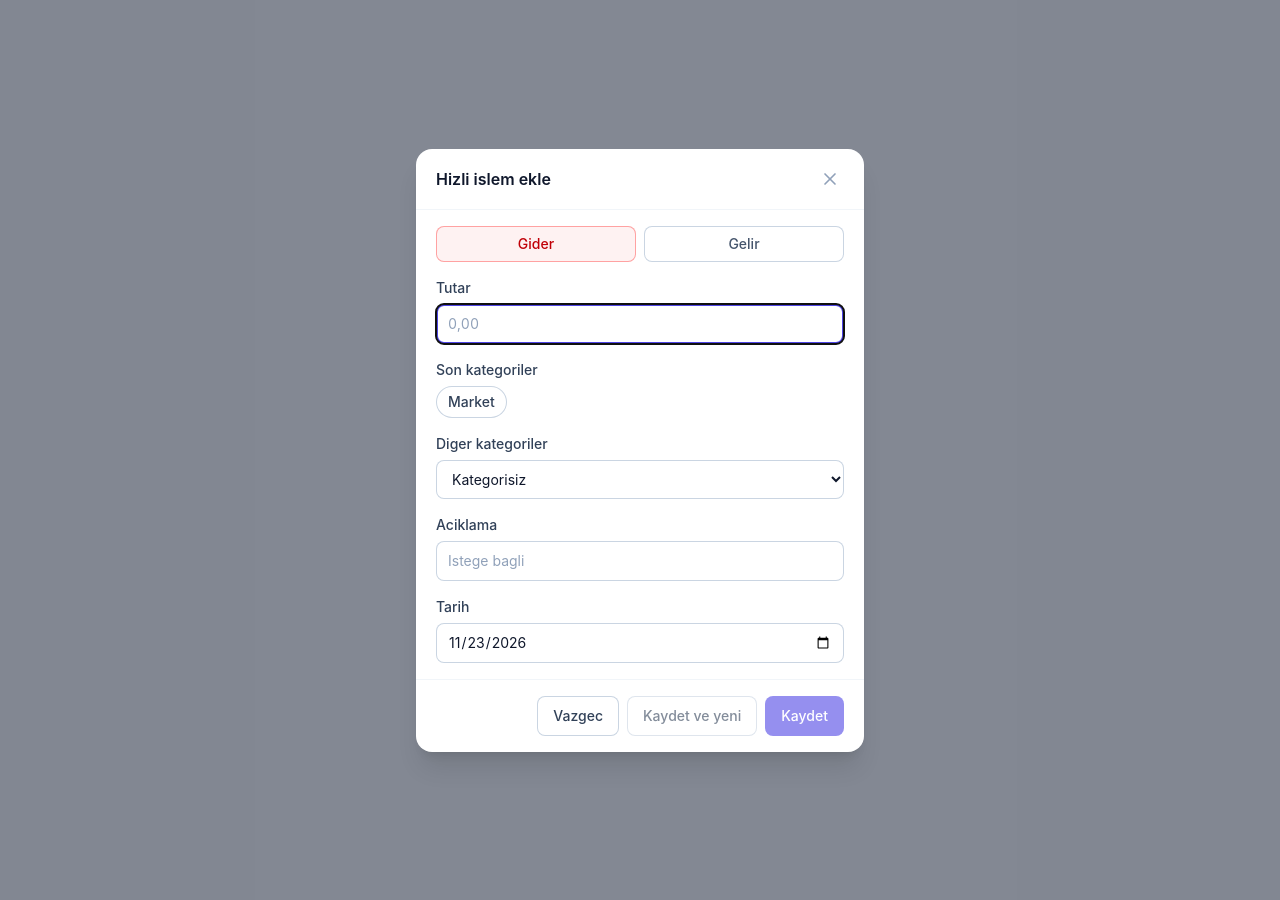
Test: HizliEkle › Gider varsayilan; son kategoriler chip olarak gelir, tur degisince yeniden cekilir
Expected: the button "Market" is shown, [436,386,507,418]
What coordinates should you click on to do the following:
click the button "Gelir"
I would click on:
 (744, 244)
Its box is [644,226,844,262].
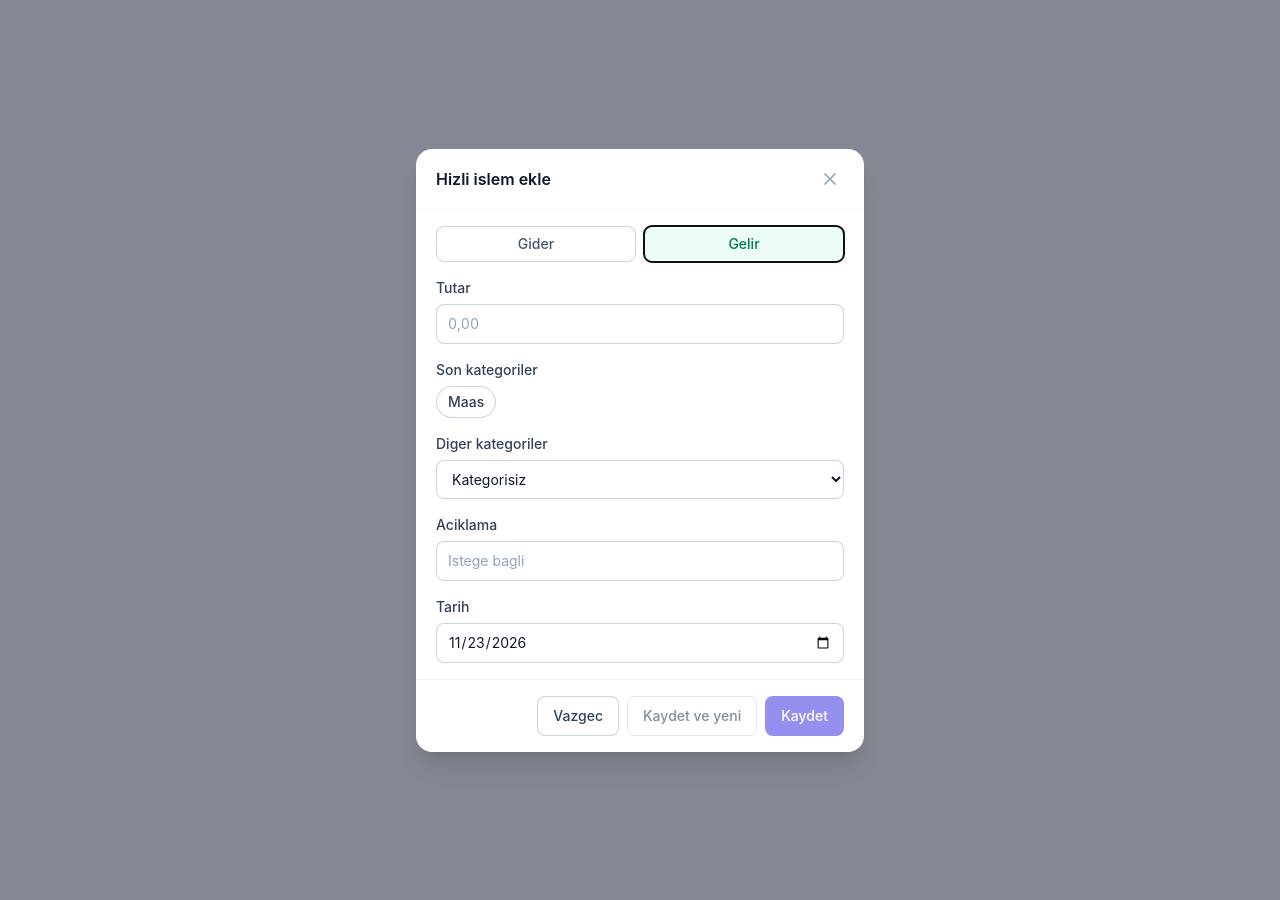
Now the button "Maas" is shown, box [436,386,496,418]
